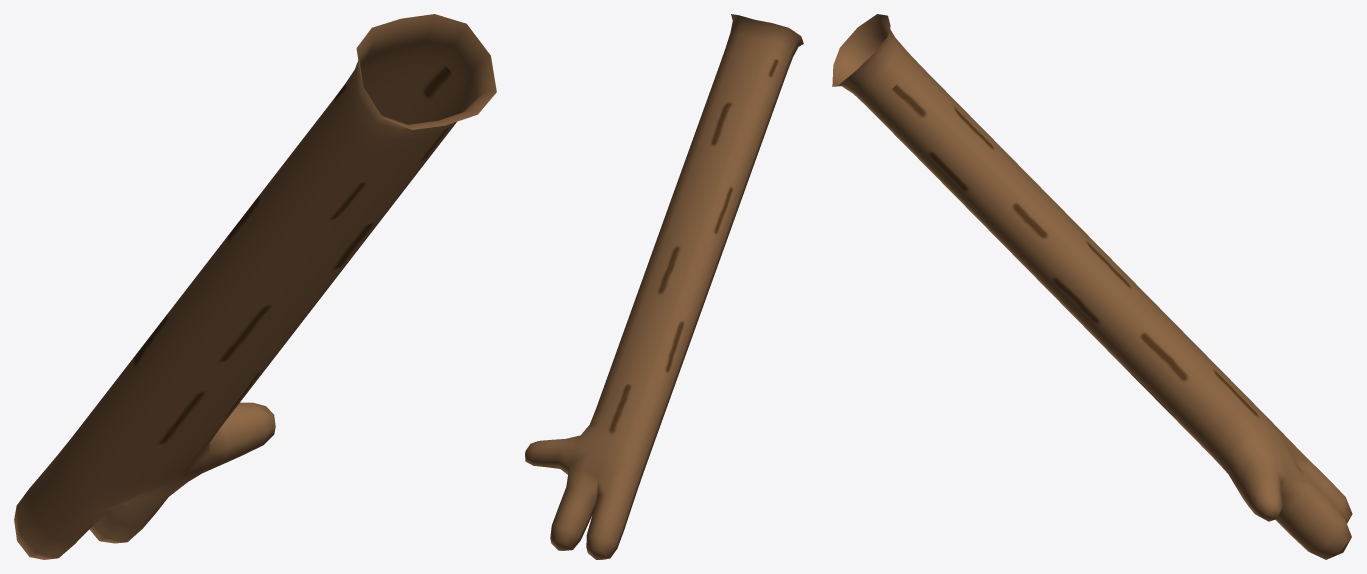
The model's file is brazoizquierdo.obj.
3 views of the same model, side by side, from view 1: azimuth 30°, elevation 25°; view 2: azimuth 150°, elevation 25°; view 3: azimuth 270°, elevation 25° (orthographic). The views are drawn at different scales.
Parts seen in each view (by area): view 1: Cube.001_R'gby_=_Base; view 2: Cube.001_R'gby_=_Base; view 3: Cube.001_R'gby_=_Base.
Part boxes in pixels (<box>): Cube.001_R'gby_=_Base: <box>14,14,496,559</box>; Cube.001_R'gby_=_Base: <box>525,14,803,559</box>; Cube.001_R'gby_=_Base: <box>832,14,1352,559</box>.
Size of the model in its own units: 0.0992 by 0.34 by 0.307.
